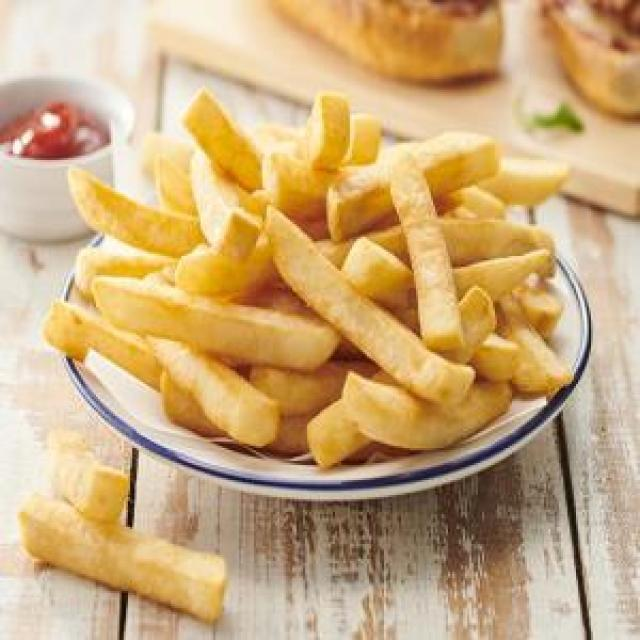French Fries: (43, 89, 570, 484)
